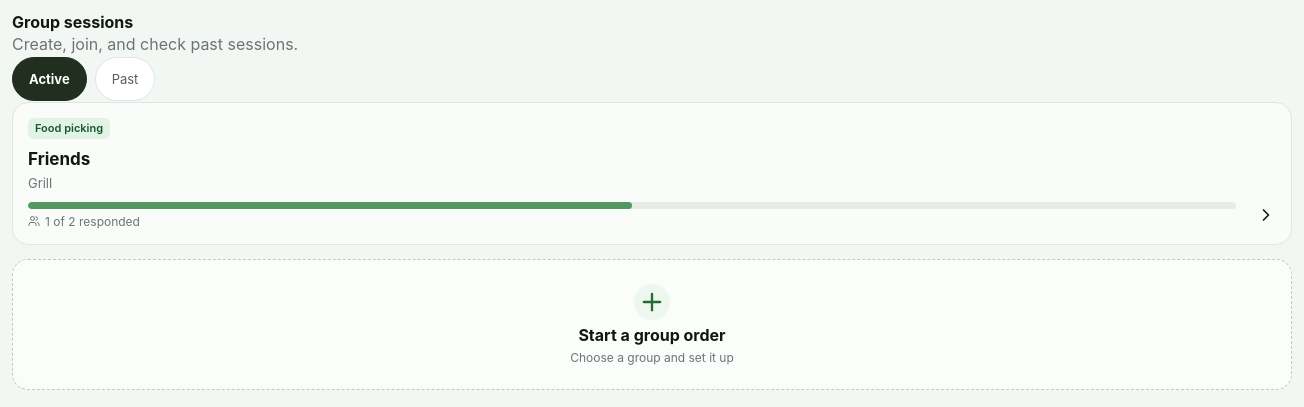
SessionsView › switches the visible orders between Active and Past
Click the button "Past" at {"x": 125, "y": 79}, box [95, 57, 155, 101]
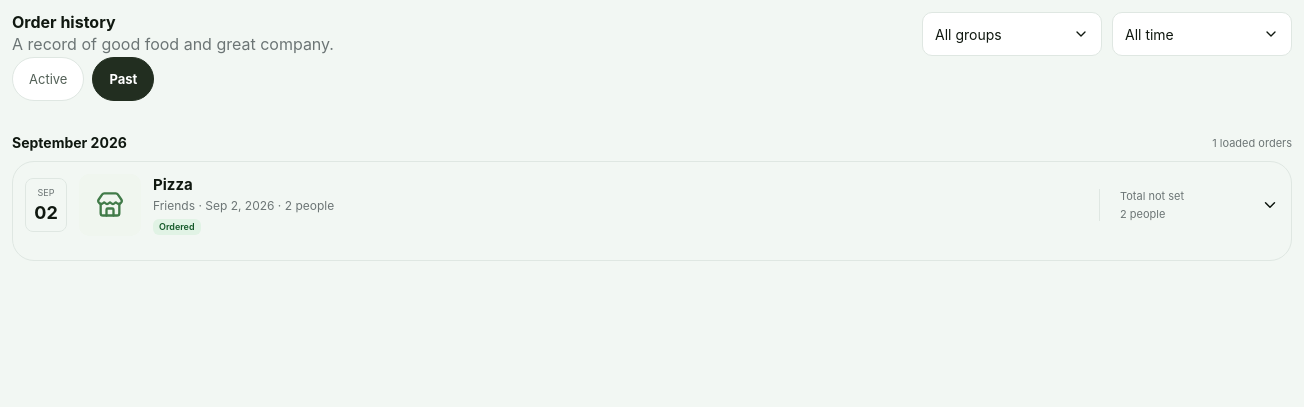
Expected: the link "Food picking" is gone
Expected: the button with aria-label "Show order log for Pizza" is shown, [13, 162, 1291, 248]
Click the button "Active" at {"x": 48, "y": 79}, box [12, 57, 84, 101]
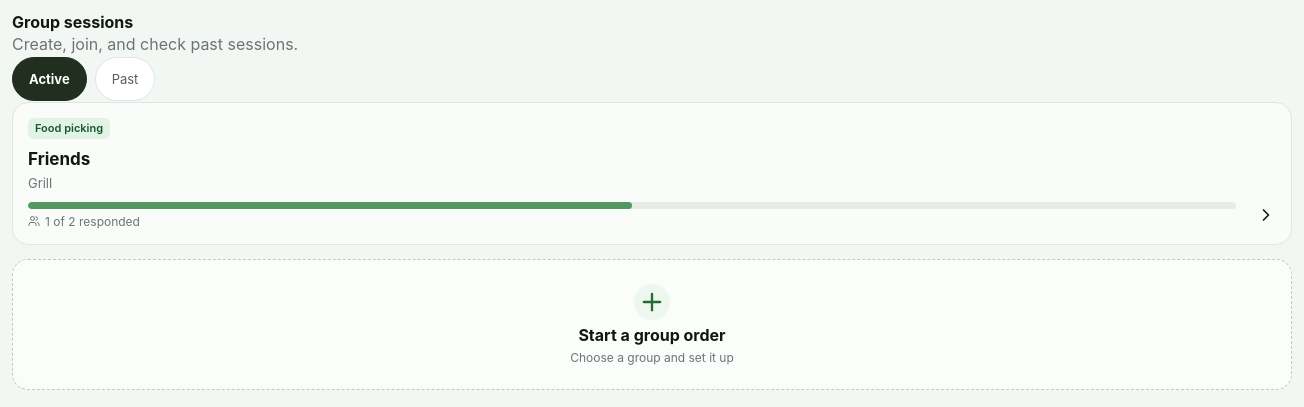
Expected: the link "Food picking Friends Grill 1 of 2 responded" is shown, [12, 102, 1292, 245]
